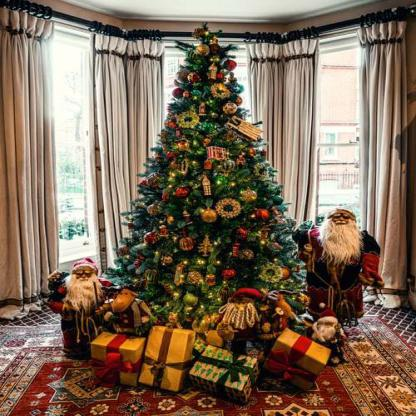present: (262, 332, 379, 407), (193, 342, 255, 403), (149, 330, 191, 394), (87, 336, 150, 362)
x_mas tree: (131, 19, 306, 310)
